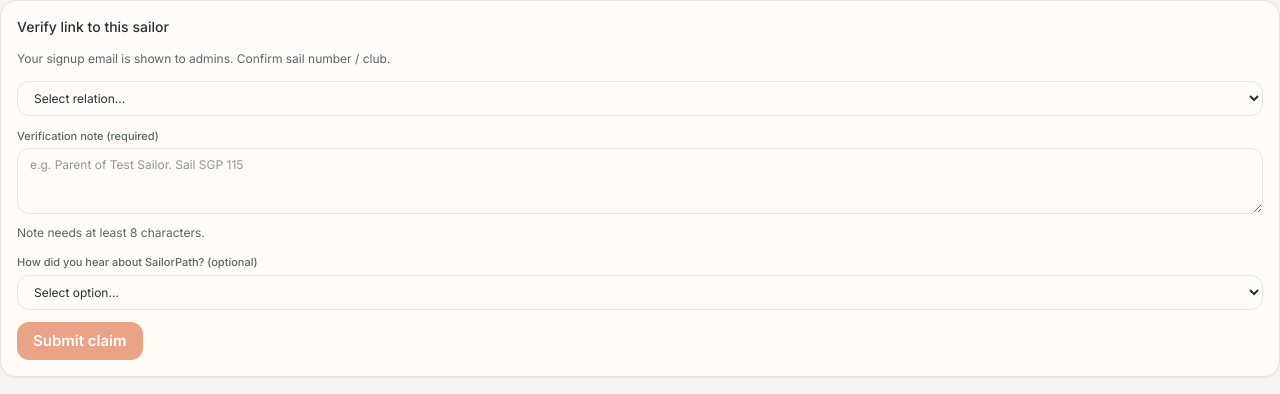
ClaimPanel UI › keeps submit disabled until relation and note are ready
Check: the button "Submit claim" is disabled, box x1=17 y1=322 x2=142 y2=360
Type "Parent of Test Sailor at CSC" into the text box with placeholder "e.g. Parent of Test Sailor. Sail SGP 115". click: (640, 181)
box: x1=17 y1=148 x2=1263 y2=214
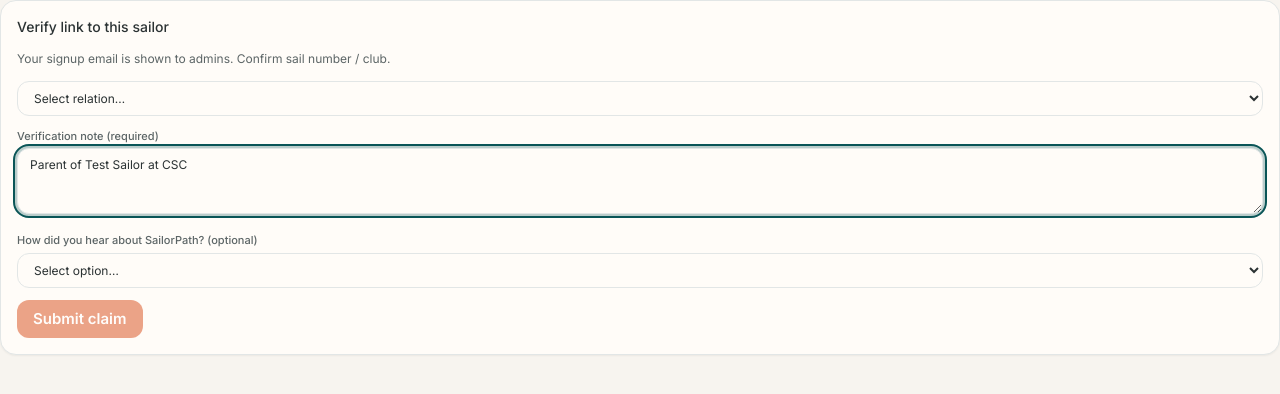
Check: the button "Submit claim" is disabled, box x1=17 y1=300 x2=142 y2=338
Select "Parent / guardian" in the dropdown named "relation". click: (640, 98)
box: x1=17 y1=80 x2=1263 y2=116
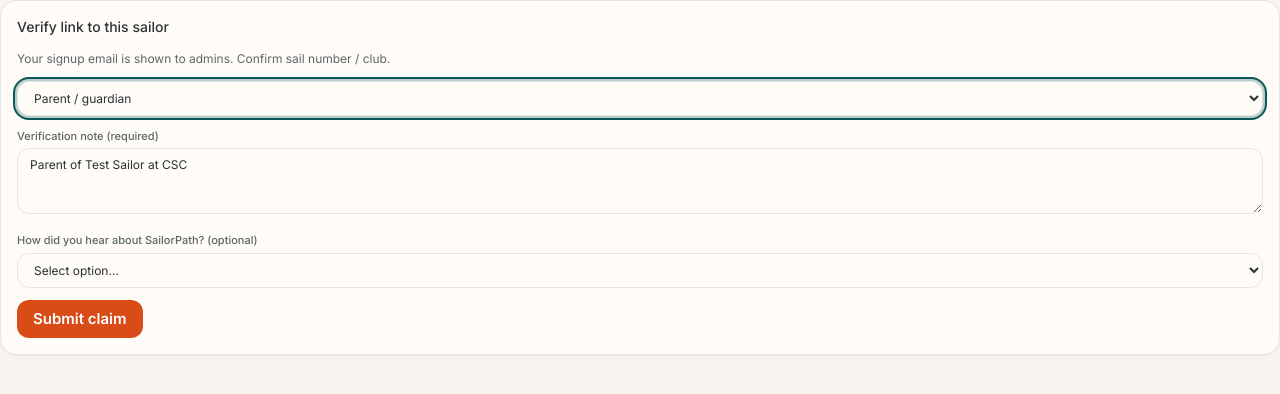
Check: the button "Submit claim" is enabled, box x1=17 y1=300 x2=142 y2=338
